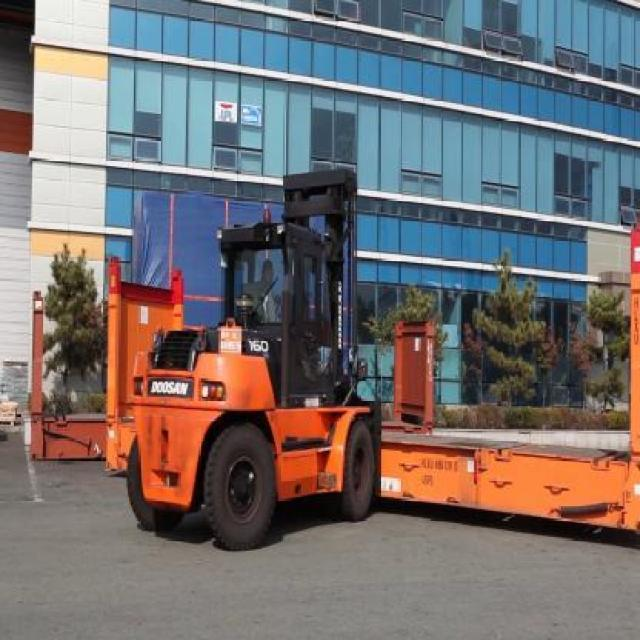forklift: (123, 229, 377, 548)
